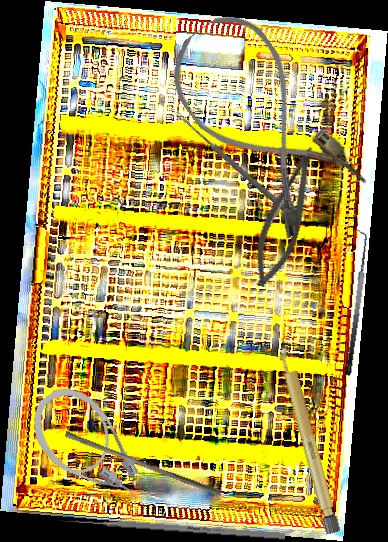Cannula: (153, 0, 370, 243), (19, 375, 156, 526)
Micro Scissor: (245, 140, 324, 293)
Pusher: (62, 430, 224, 497), (57, 516, 286, 540)
Scalpel Handle: (276, 345, 342, 535)
Spatula Surgical: (333, 228, 375, 377)
Surgical Spoon: (173, 110, 299, 221)
